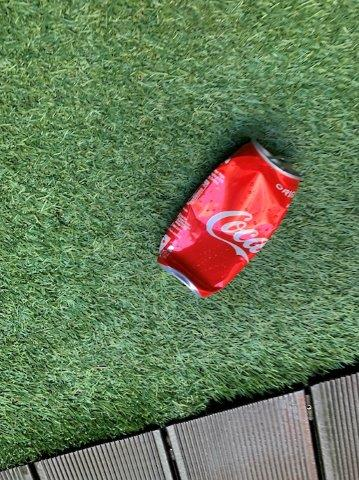kaleng: (159, 140, 299, 296)
